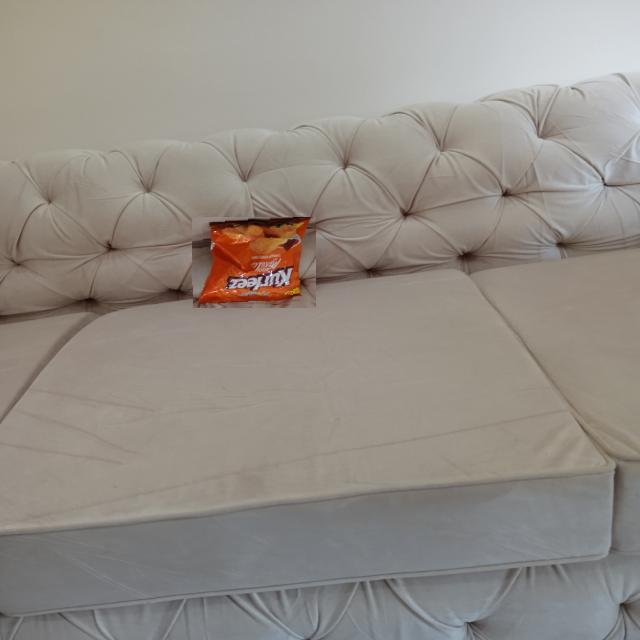Plastic: (191, 217, 316, 308)
